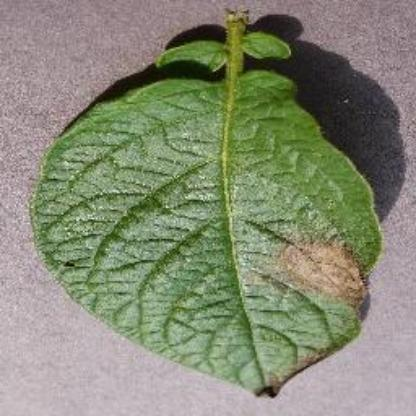Late-Blight: (13, 10, 398, 404)
